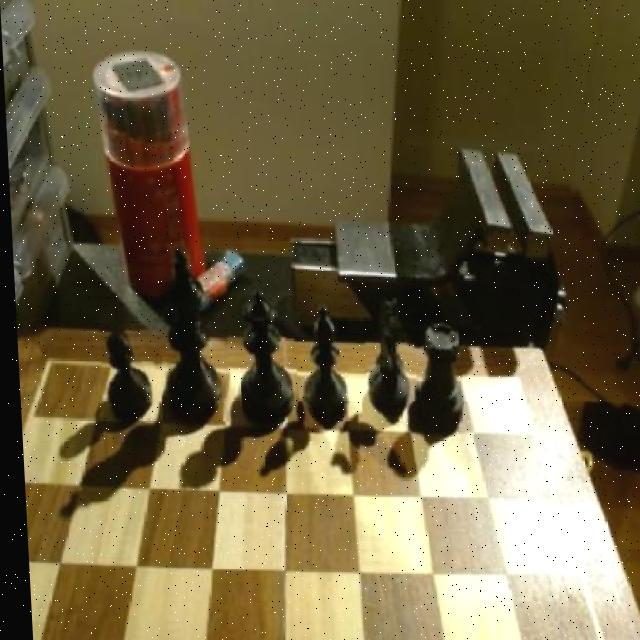bishop: (291, 302, 351, 422)
black-bishop: (153, 248, 229, 422)
black-king: (360, 298, 408, 422)
black-knight: (95, 324, 155, 426)
black-pawn: (229, 289, 296, 429)
black-queen: (410, 315, 469, 438)
